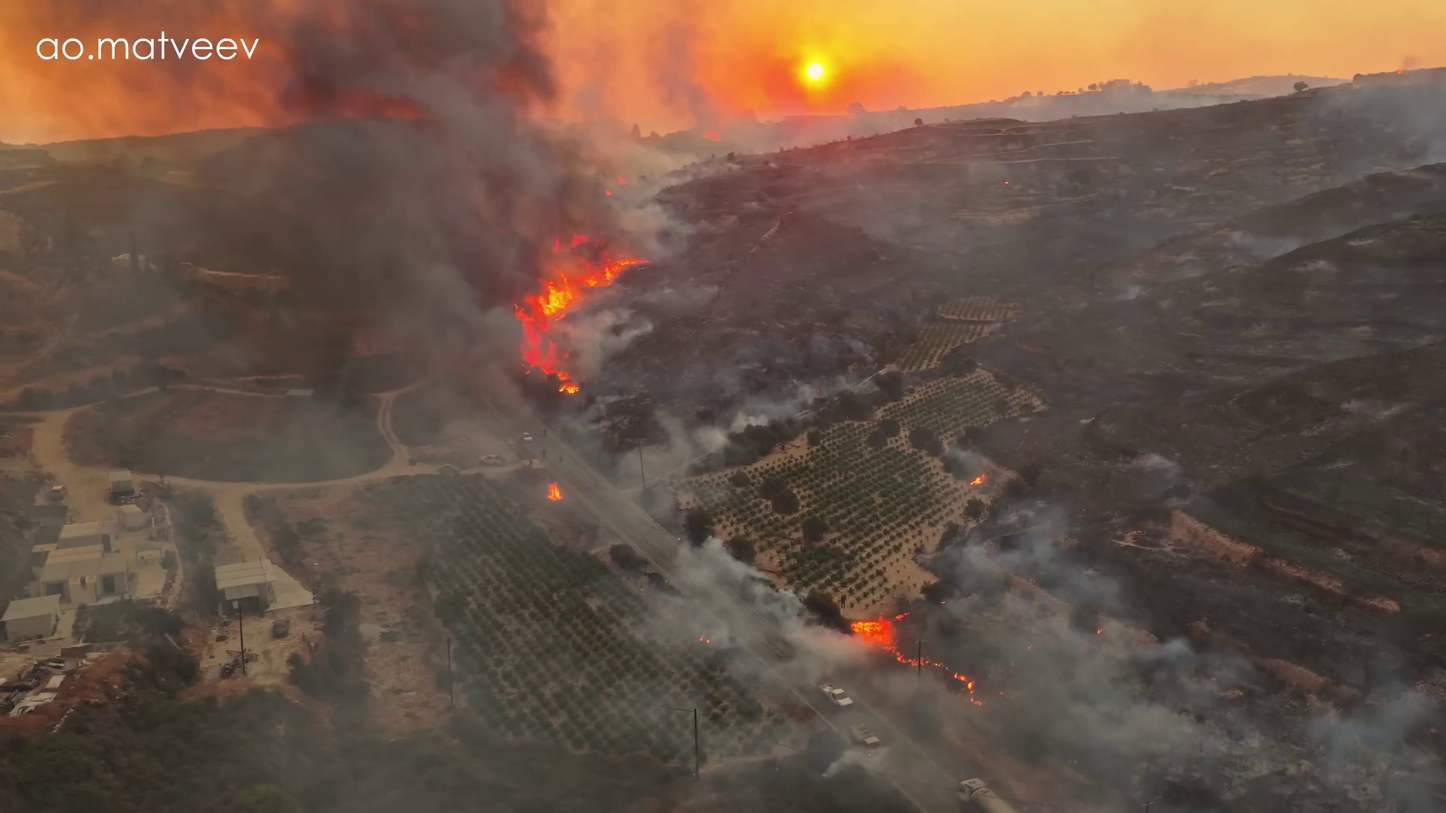forest_fire: (514, 233, 644, 392), (850, 614, 981, 705), (546, 481, 561, 500), (968, 473, 985, 486)
